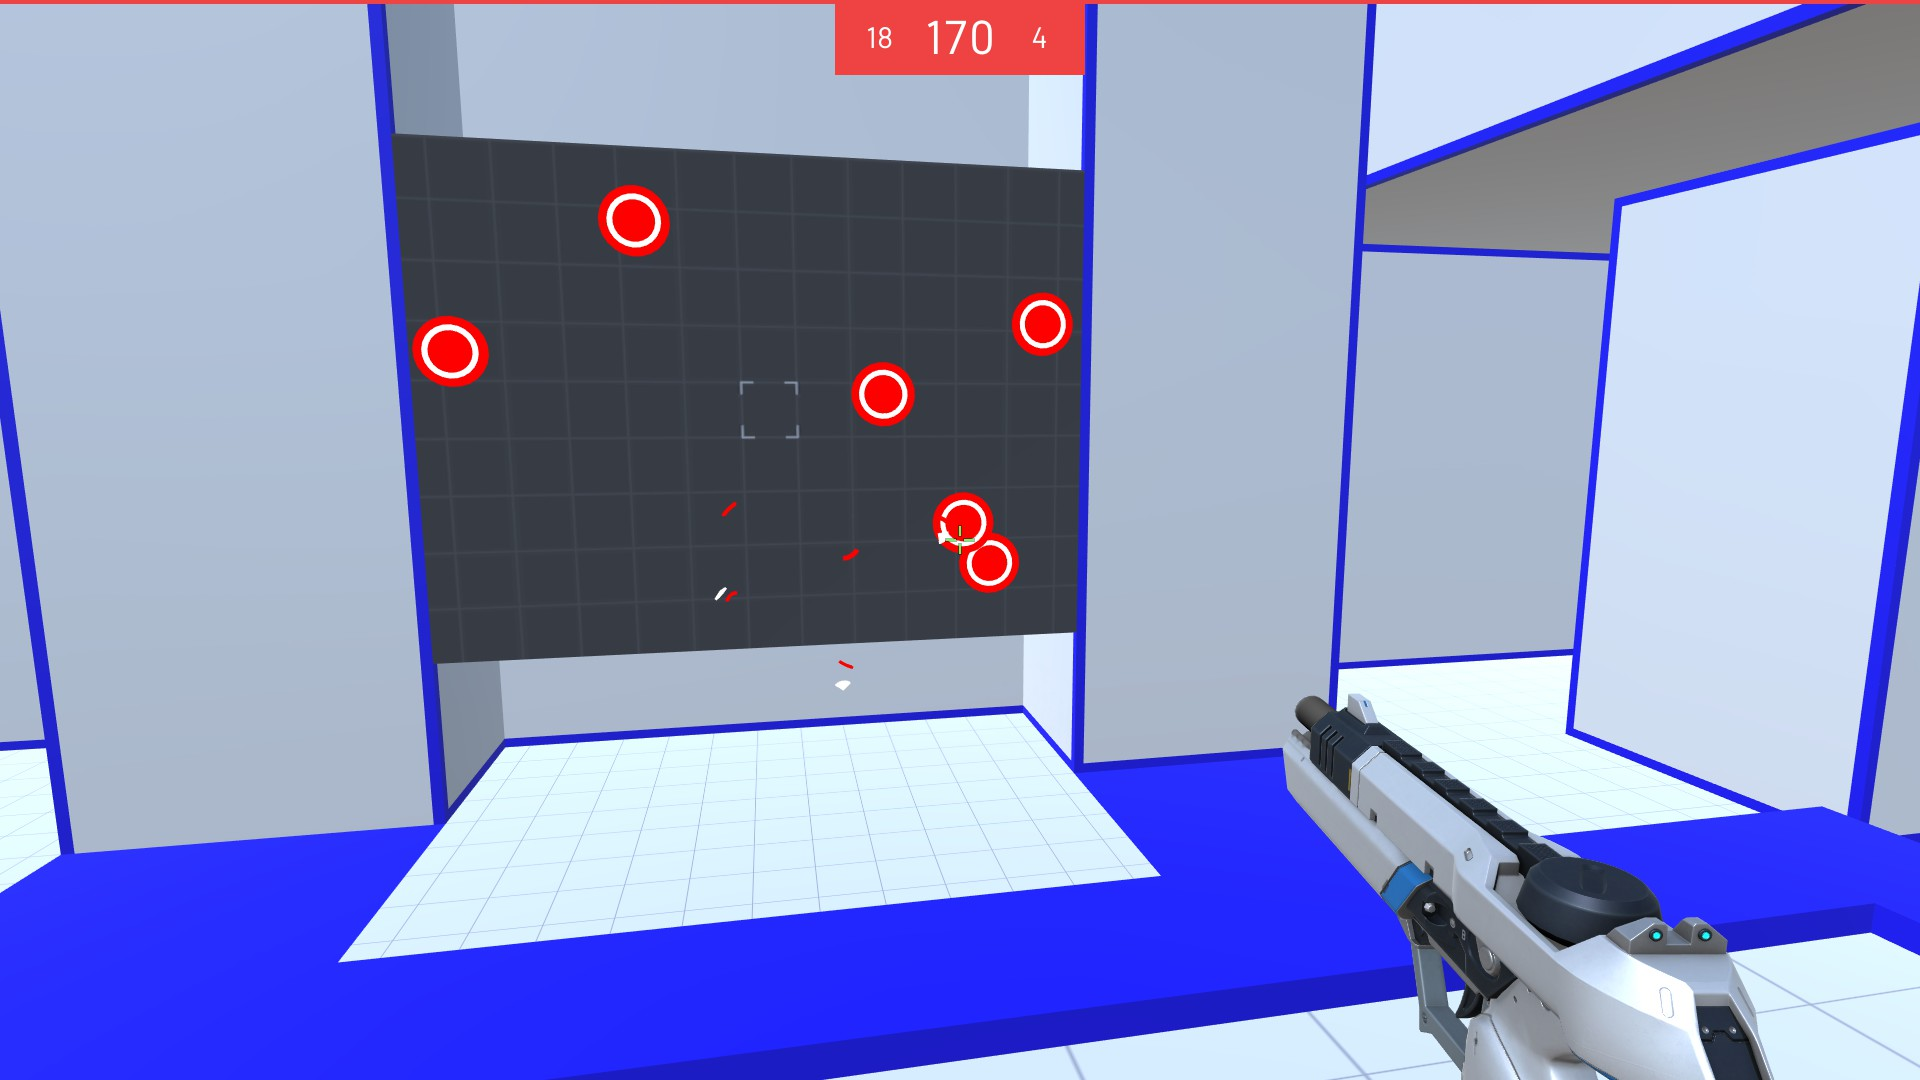target: (410, 311, 491, 390), (599, 181, 674, 260), (1006, 290, 1073, 364), (957, 535, 1022, 599), (931, 492, 996, 554)
